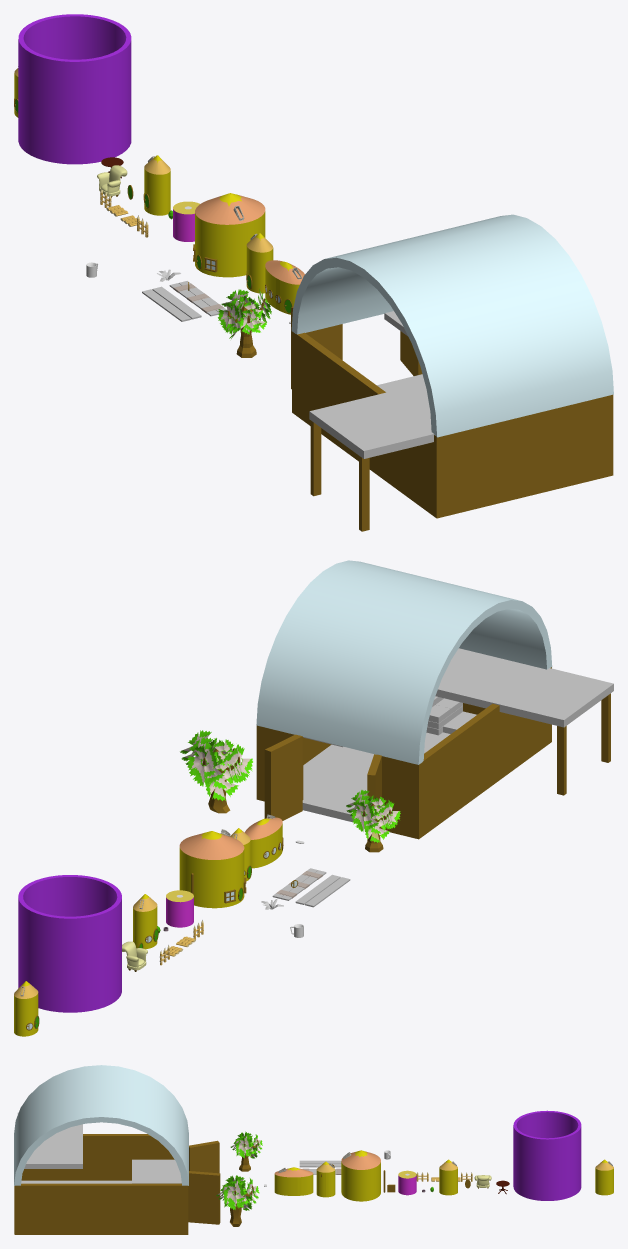
The model's file is 3LOKA.fbx.
3 renders of one model, top to bottom at view 1: azimuth 30°, elevation 25°; view 2: azimuth 150°, elevation 25°; view 3: azimuth 270°, elevation 25°, orthographic. The views are drawn at different scales.
Visible parts, largest first — view 1: Cylinder, Cylinder.016, Cube.002, Cylinder.007, Cylinder.023, Cylinder.014, Cylinder.001, Cube.006; view 2: Cylinder, Cylinder.016, Cube.002, Plane.023, Cylinder.007, Cylinder.023, Cylinder.017, Cylinder.001, Cube.006; view 3: Cylinder, Cylinder.016, Cube.002, Plane.023, Cylinder.007, Cylinder.014, Cylinder.023, Cylinder.017, Cylinder.001.
Part boxes in pixels (bbox=[...]): Cylinder: bbox=[291, 214, 613, 531]; Cylinder.016: bbox=[18, 14, 131, 164]; Cube.002: bbox=[193, 193, 265, 277]; Cylinder.007: bbox=[265, 260, 304, 314]; Cylinder.023: bbox=[143, 155, 170, 215]; Cylinder.014: bbox=[246, 233, 273, 293]; Cylinder.001: bbox=[173, 201, 199, 241]; Cube.006: bbox=[169, 281, 226, 316]; Cylinder: bbox=[256, 560, 613, 841]; Cylinder.016: bbox=[18, 875, 121, 1012]; Cube.002: bbox=[179, 831, 246, 908]; Plane.023: bbox=[180, 730, 252, 813]; Cylinder.007: bbox=[244, 814, 283, 868]; Cylinder.023: bbox=[133, 894, 158, 949]; Cylinder.017: bbox=[14, 981, 38, 1036]; Cylinder.001: bbox=[166, 890, 193, 927]; Cube.006: bbox=[272, 868, 326, 900]; Cylinder: bbox=[14, 1065, 220, 1234]; Cylinder.016: bbox=[513, 1110, 581, 1200]; Cube.002: bbox=[341, 1150, 380, 1201]; Plane.023: bbox=[216, 1175, 259, 1226]; Cylinder.007: bbox=[274, 1167, 313, 1195]; Cylinder.014: bbox=[316, 1161, 335, 1197]; Cylinder.023: bbox=[439, 1159, 457, 1195]; Cylinder.017: bbox=[595, 1159, 613, 1195]; Cylinder.001: bbox=[398, 1170, 416, 1195].
Bounding box in the file's own units: 5060 × 3335 × 15355.
